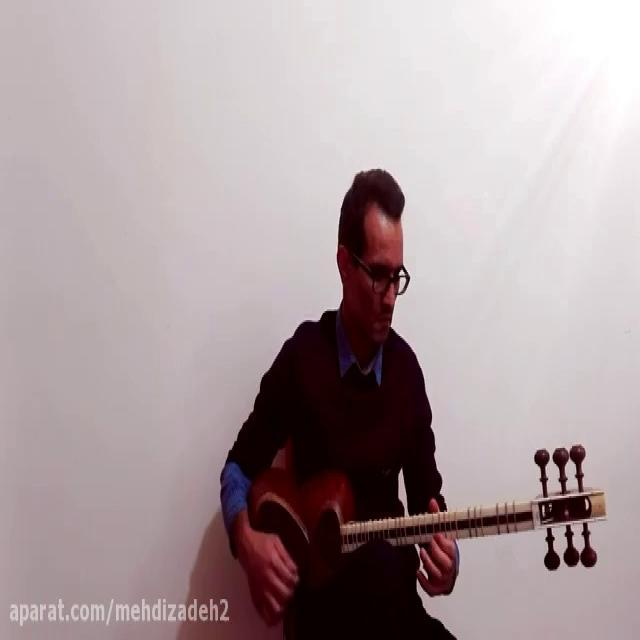Setar: (247, 440, 611, 624)
